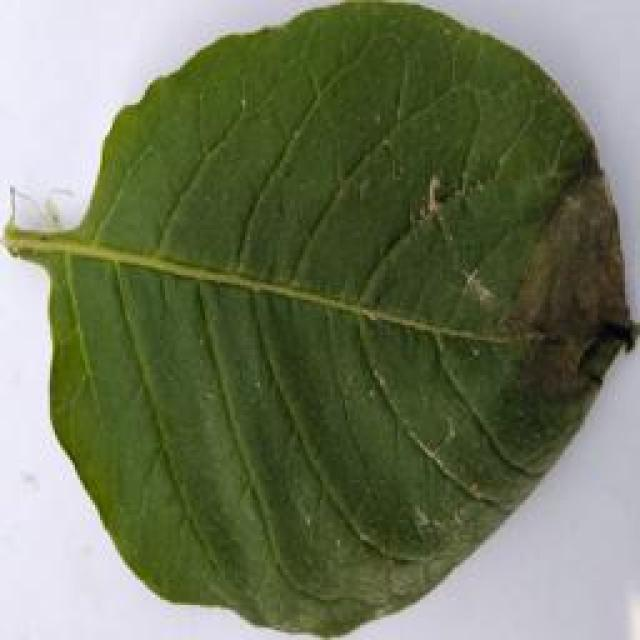Potato_Late_Blight: (6, 6, 626, 632)
